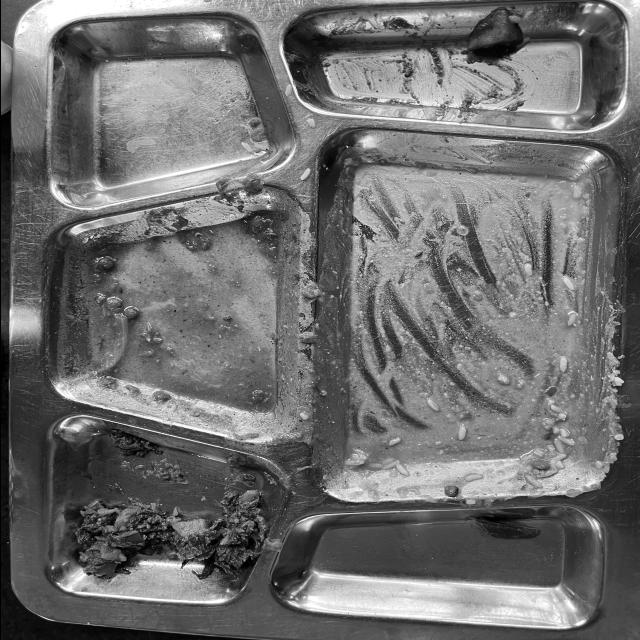20-Food-Left: (48, 0, 640, 606)
